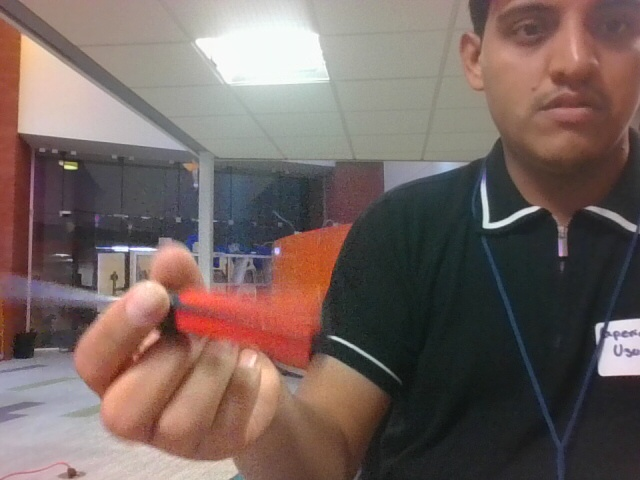destornillador: (24, 260, 312, 381)
